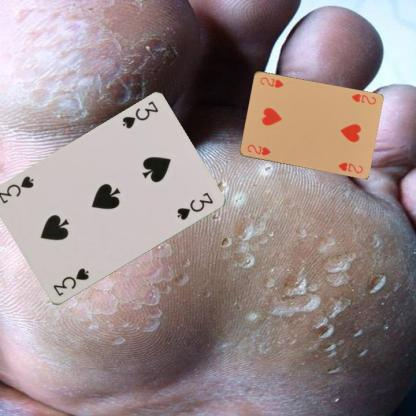2h: (348, 91, 377, 106), (244, 142, 272, 157)
3s: (119, 98, 159, 131), (50, 266, 90, 298)
